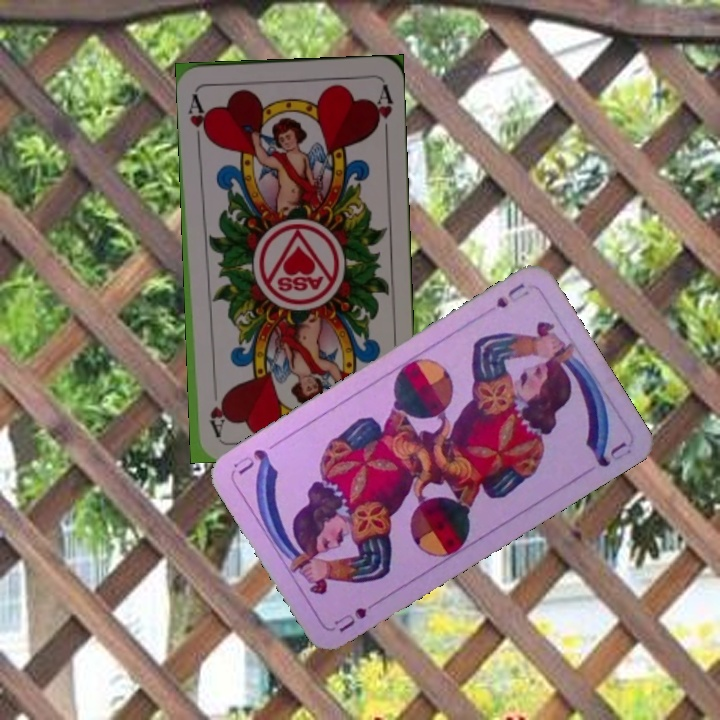HA: (184, 87, 212, 146)
SU: (330, 595, 383, 635), (491, 279, 532, 311)
